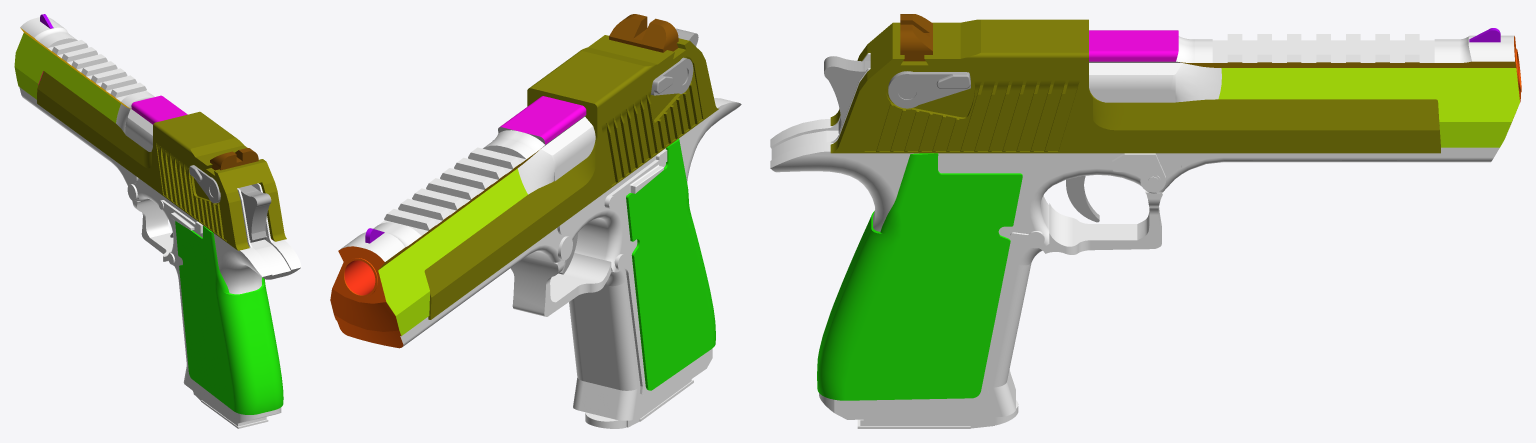
The model's file is Disert Egal 50 CAL.fbx.
3 views of the same model, side by side, from view 1: azimuth 30°, elevation 25°; view 2: azimuth 150°, elevation 25°; view 3: azimuth 270°, elevation 25° (orthographic). The views are drawn at different scales.
Parts seen in each view (by area): view 1: MainBody, RELODER, PART2, PART3, MAG; view 2: MainBody, RELODER, PART3, MAG; view 3: MainBody, RELODER, PART4, MAG, PART2, PART.
Boxes of the visible parts, box(x1,y1,x2,y2) form: MainBody: box(14, 14, 301, 423); RELODER: box(37, 71, 286, 250); PART2: box(238, 185, 271, 242); PART3: box(189, 165, 220, 203); MAG: box(193, 391, 268, 428); MainBody: box(330, 96, 741, 420); RELODER: box(424, 14, 718, 319); PART3: box(650, 57, 693, 95); MAG: box(585, 379, 693, 428); MainBody: box(770, 28, 1521, 419); RELODER: box(830, 14, 1440, 153); PART4: box(888, 71, 970, 108); MAG: box(857, 400, 1018, 428); PART2: box(824, 56, 870, 133); PART: box(1066, 176, 1099, 222).
Size of the model in its own units: 3.59 by 15.84 by 27.25.
